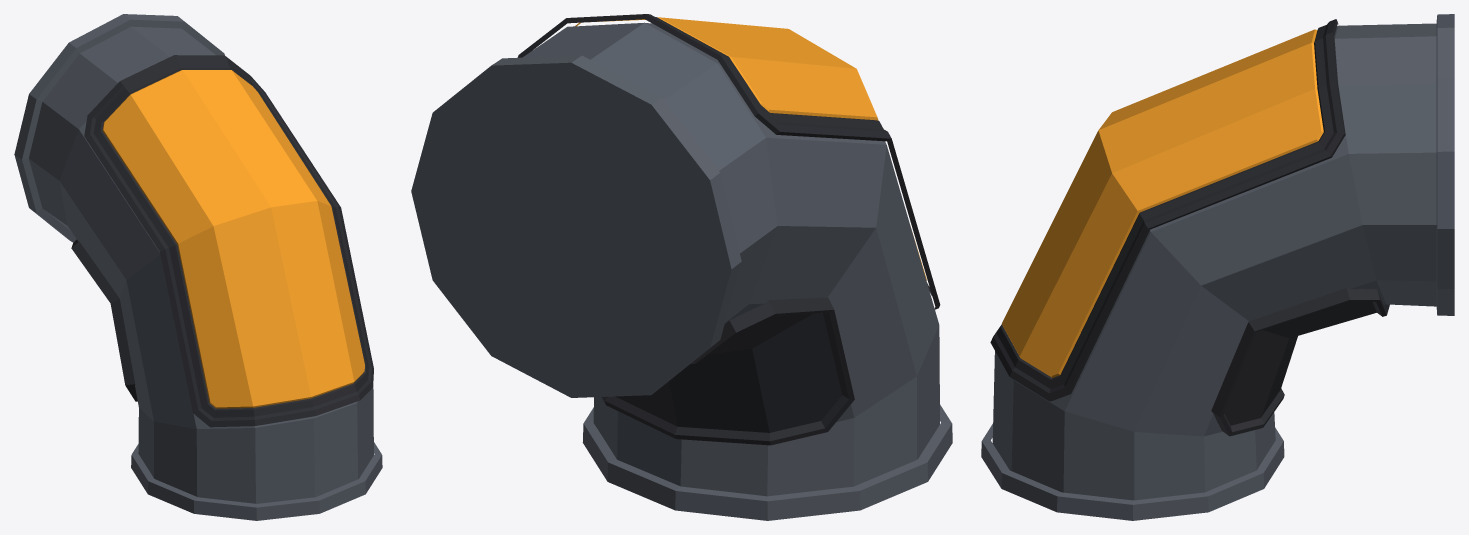
File: SM_The_rotary_section_of_the_pipe_1m.glb
3 renders of one model, left to right at view 1: azimuth 30°, elevation 25°; view 2: azimuth 150°, elevation 25°; view 3: azimuth 270°, elevation 25°, orthographic. The views are drawn at different scales.
Parts seen in each view (by area): view 1: SM_The_rotary_section_of_the_pipe_1m; view 2: SM_The_rotary_section_of_the_pipe_1m; view 3: SM_The_rotary_section_of_the_pipe_1m.
Part boxes in pixels (box(x1,y1,x2,y2)): SM_The_rotary_section_of_the_pipe_1m: box(14, 14, 382, 520); SM_The_rotary_section_of_the_pipe_1m: box(411, 14, 952, 520); SM_The_rotary_section_of_the_pipe_1m: box(981, 14, 1454, 520).
Bounding box in the file's own units: 0.6403 × 1 × 1.
1 material, 1 textured.
